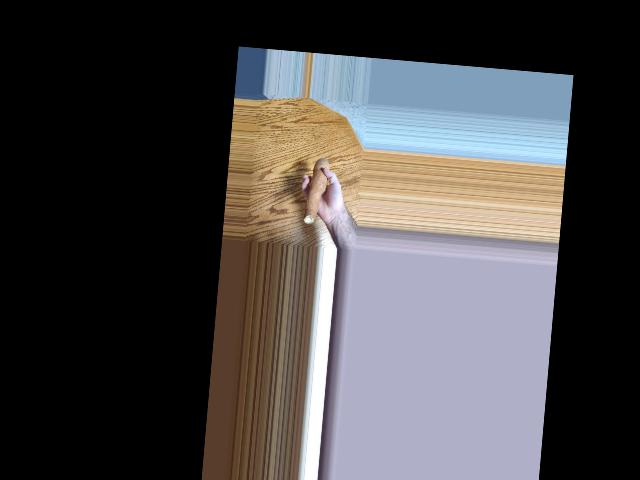sweet_potato: (305, 158, 330, 223)
